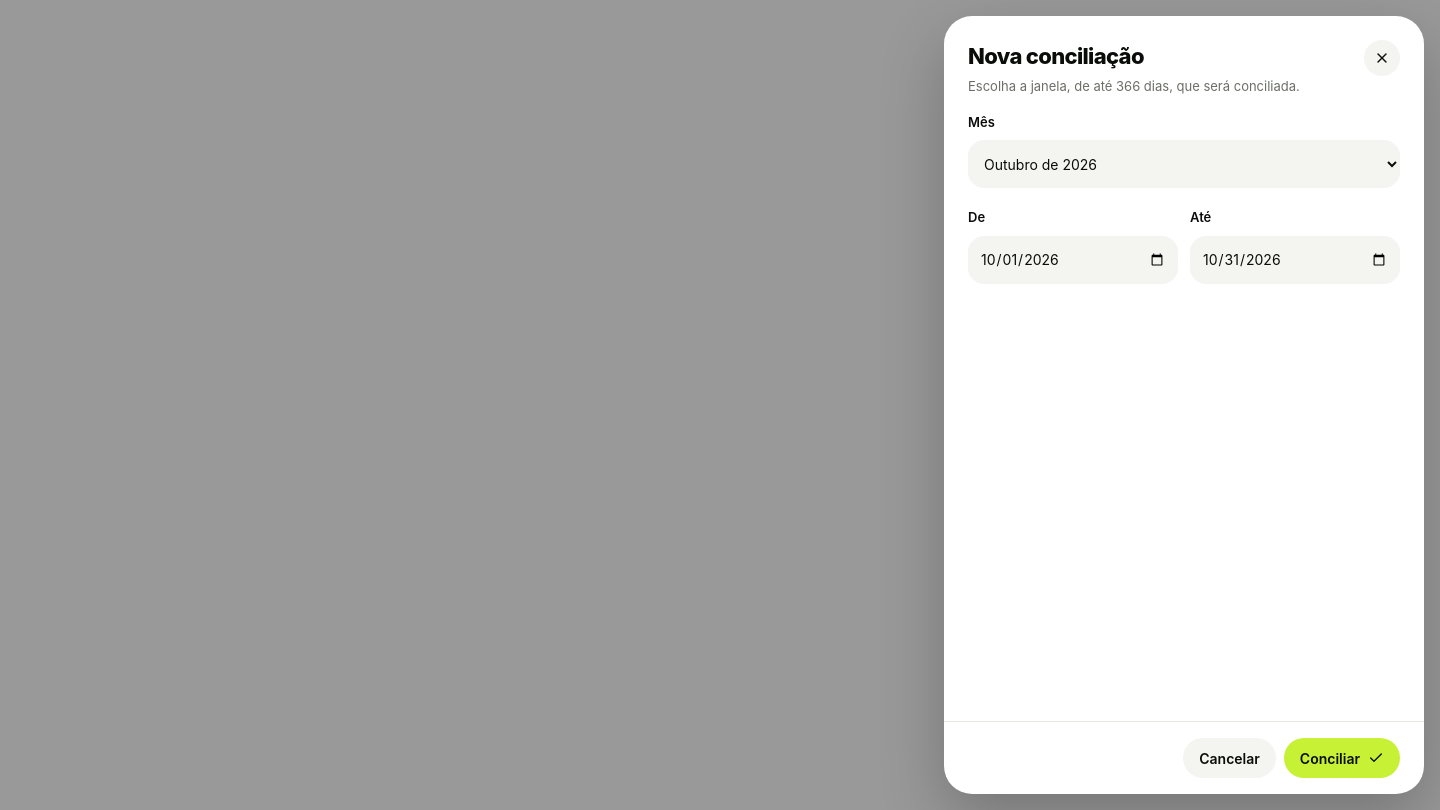
Test: NewRunDrawer › escolher um mês preenche De e Até com o mês inteiro (REC-06 AC2)
Select "Fevereiro de 2026" in the dropdown labelled "Mês" at (1184, 164), box top-left (968, 140), bottom-right (1400, 188)
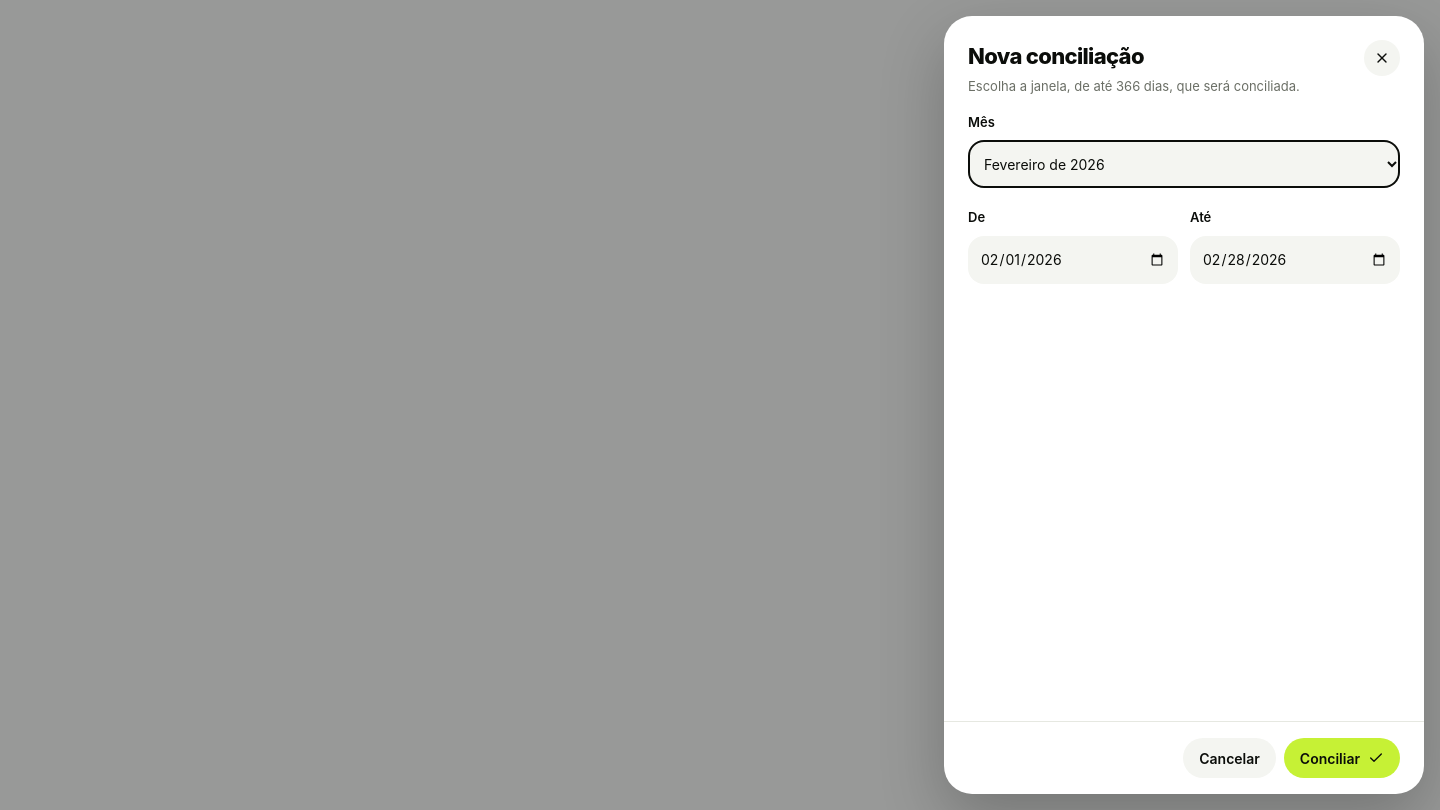
Now the date field labelled "De" holds "2026-02-01", box top-left (968, 236), bottom-right (1178, 284)
Now the date field labelled "Até" holds "2026-02-28", box top-left (1190, 236), bottom-right (1400, 284)
